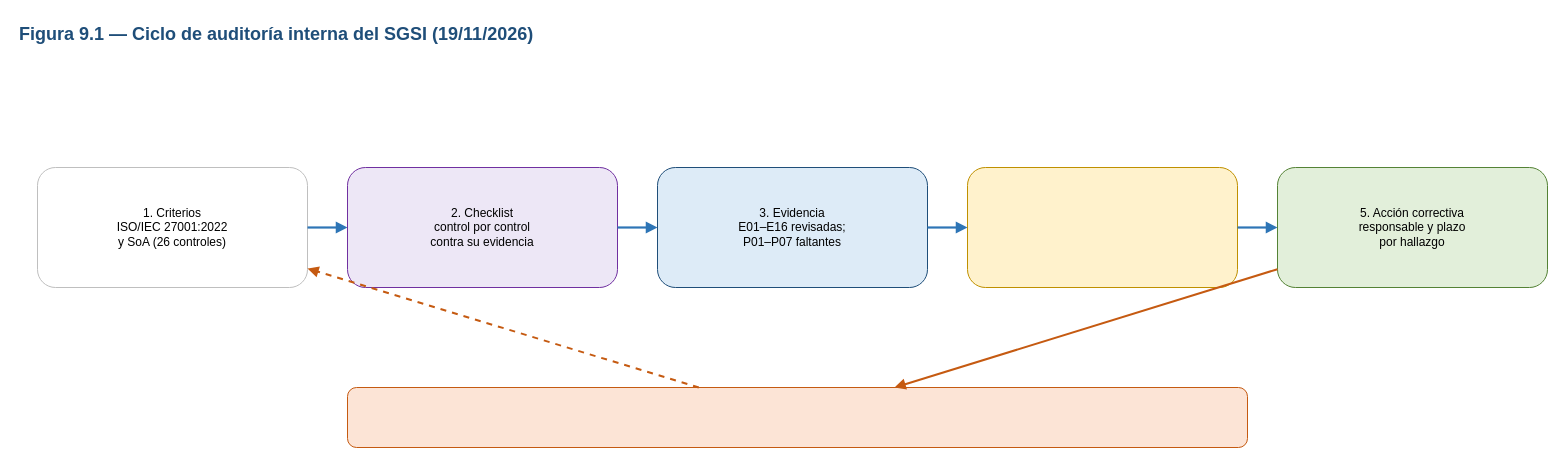
Some shapes in this 1565 by 465 pixel diagram are drawn without their labels. Here are the shapes that lost their labels. From the top down, the centre of each, then its label:
At (1102,227): "4. Resultado 2 conformes · 2 observaciones 2 NC mayores · 2 NC menores".
At (797,417): "6. Revisión por la dirección (sección 9.3) → próximo ciclo del SGSI".
